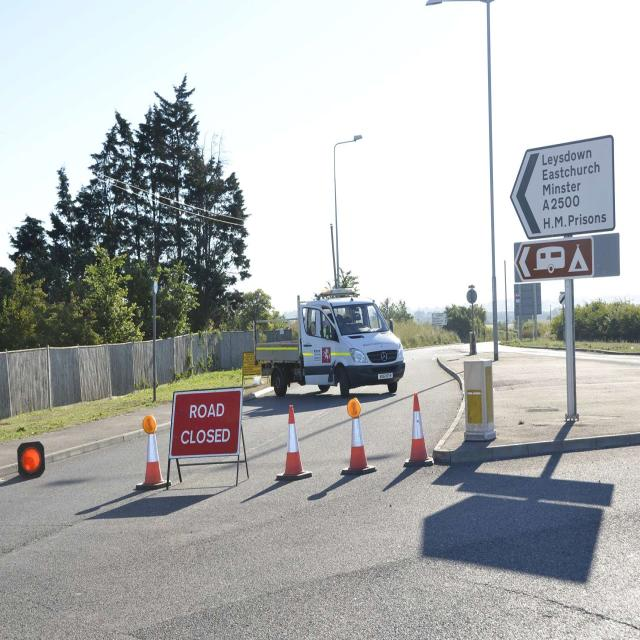light_vehicle: (246, 281, 407, 400)
